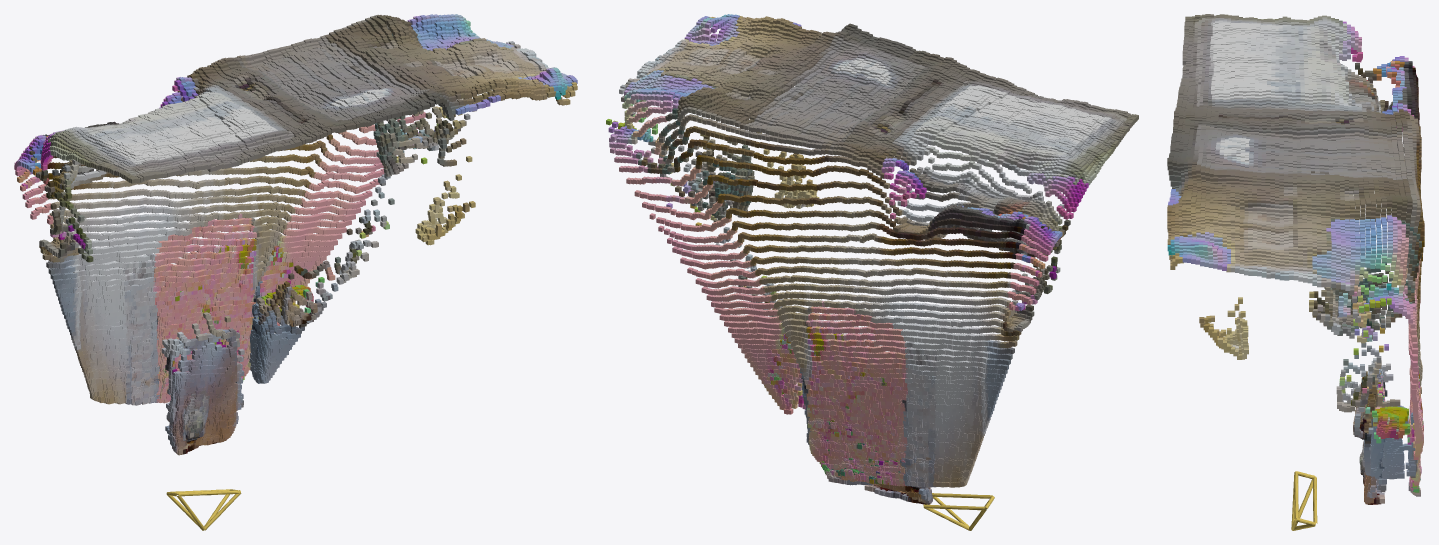
Rendered from pred_2-compressed.glb.
3 renders of one model, left to right at view 1: azimuth 30°, elevation 25°; view 2: azimuth 150°, elevation 25°; view 3: azimuth 270°, elevation 25°, orthographic. The views are drawn at different scales.
Bounding box in the file's own units: 5.92 × 5.18 × 2.61.
